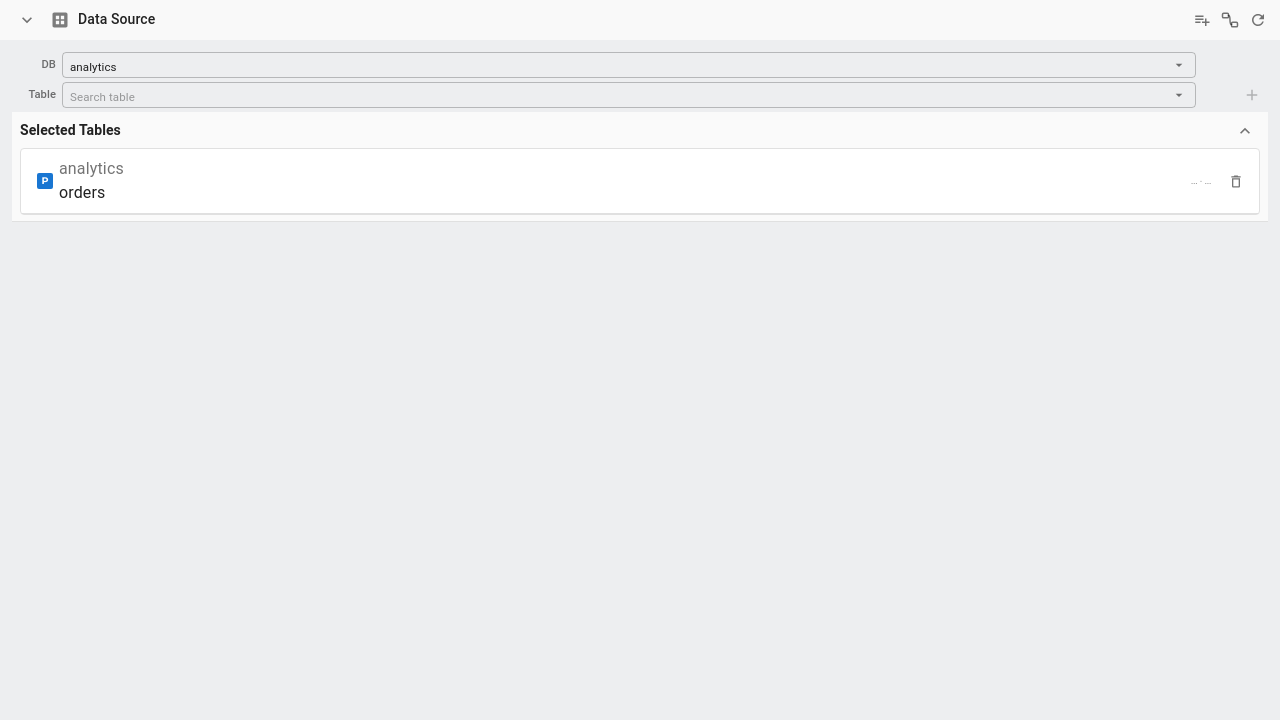
CompactMetadataSelector › opens the relationship editor from the Data Source header when Related Tables is hidden
Click the button named "Manage relationships" at (1230, 20), box [1220,10,1240,30]
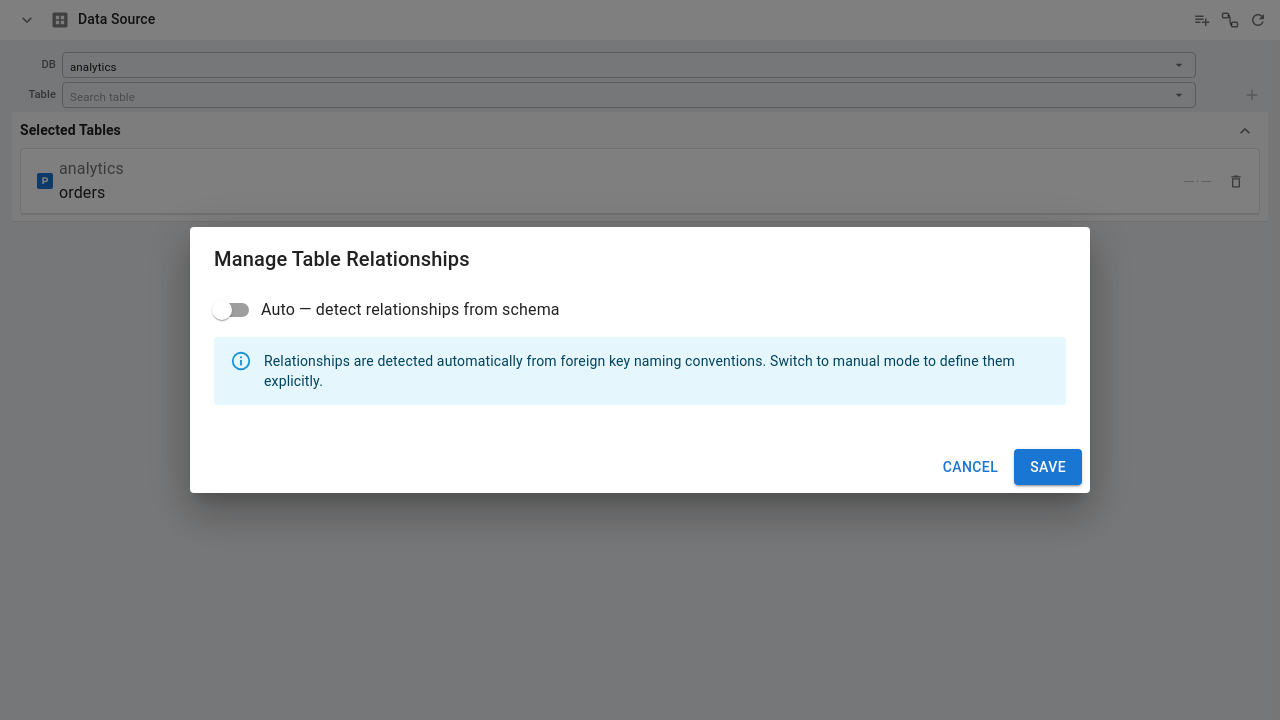
Now the dialog "Manage Table Relationships" is shown, box [190,227,1090,493]
Now the text "Auto — detect relationships from schema" is shown, box [261,298,560,322]
